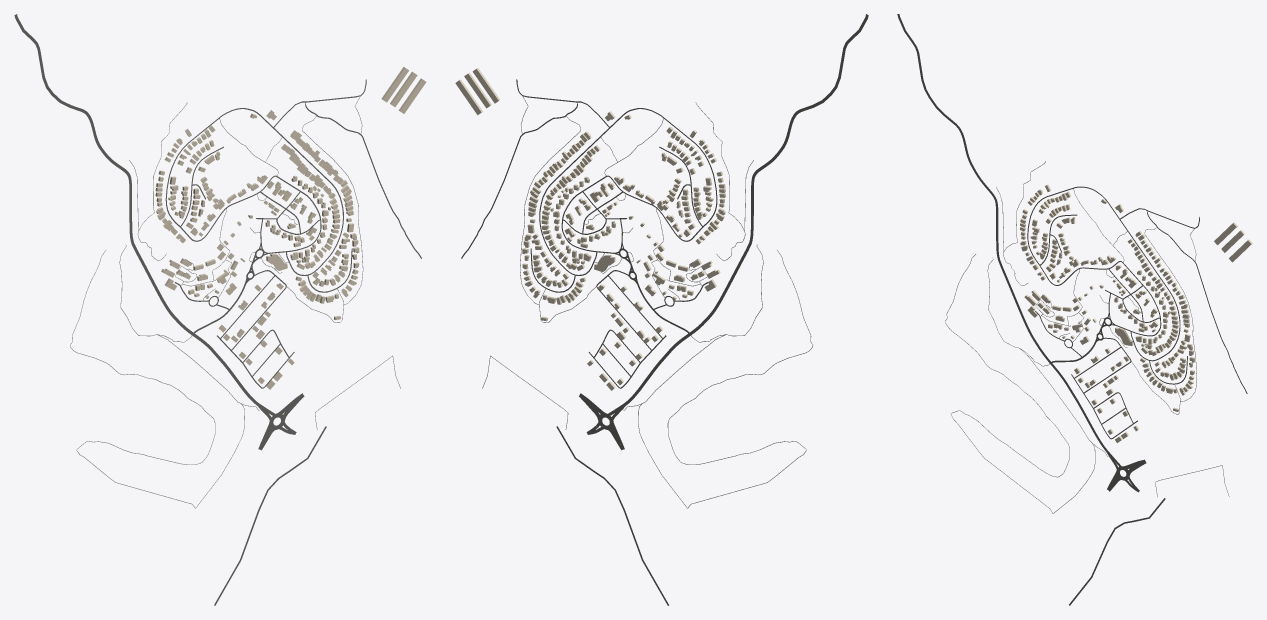
The model's file is historic-palestine-07_22_3493_3167.glb.
3 renders of one model, left to right at view 1: azimuth 30°, elevation 25°; view 2: azimuth 150°, elevation 25°; view 3: azimuth 330°, elevation 25°, orthographic. The views are drawn at different scales.
Visible parts, largest first — view 1: Road 353.001, Road .011; view 2: Road 353.001, Road .011; view 3: Road 353.001, Road .011.
Boxes of the visible parts, x1,y1,x2,y2 form: Road 353.001: [14, 14, 258, 405]; Road .011: [70, 250, 215, 508]; Road 353.001: [624, 14, 868, 405]; Road .011: [667, 250, 812, 508]; Road 353.001: [897, 14, 1107, 451]; Road .011: [945, 254, 1069, 513].
Bounding box in the file's own units: 1232 × 1829 × 8.7.
